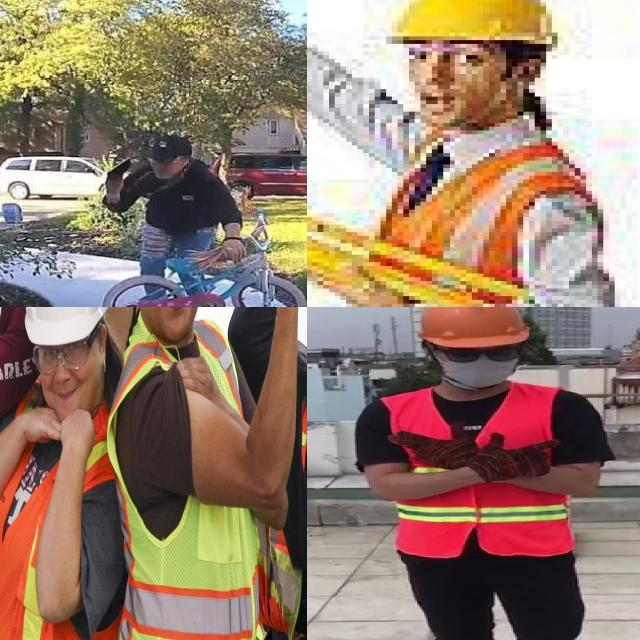No_Ear-Protection: (96, 321, 109, 373), (182, 151, 195, 173)
face_nomask: (392, 47, 529, 126), (35, 329, 102, 428), (148, 160, 176, 183)
glasses: (30, 336, 90, 376), (428, 342, 528, 366)
hand_glove: (479, 428, 556, 481), (388, 426, 476, 469)
hand_noglove: (307, 251, 408, 307), (15, 394, 65, 456), (56, 411, 104, 460), (217, 219, 254, 274)
head_helmet: (380, 0, 568, 40), (411, 307, 536, 349), (21, 307, 110, 344)
person: (322, 307, 640, 640), (307, 0, 631, 307), (95, 307, 297, 640), (0, 307, 127, 640), (94, 118, 272, 307)
vest: (109, 317, 266, 640), (340, 137, 591, 307), (374, 384, 577, 559), (0, 365, 124, 640), (260, 409, 307, 640)
